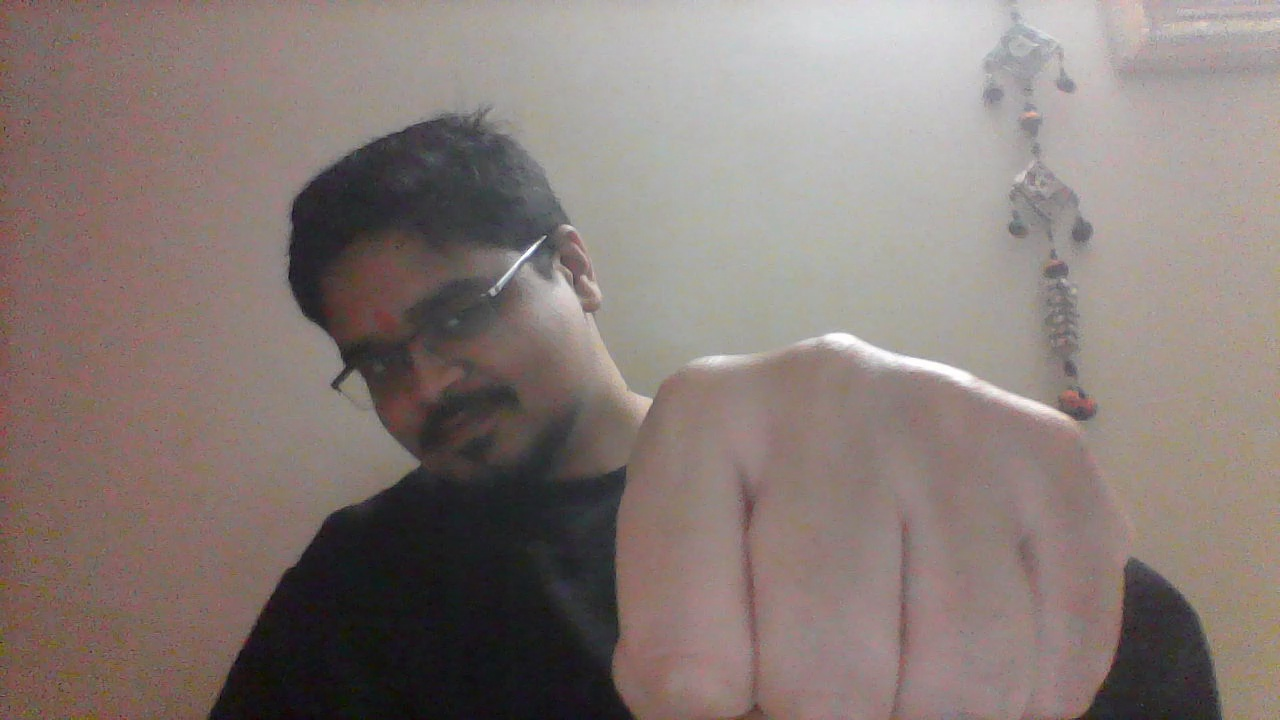Yes: (604, 327, 1143, 716)
